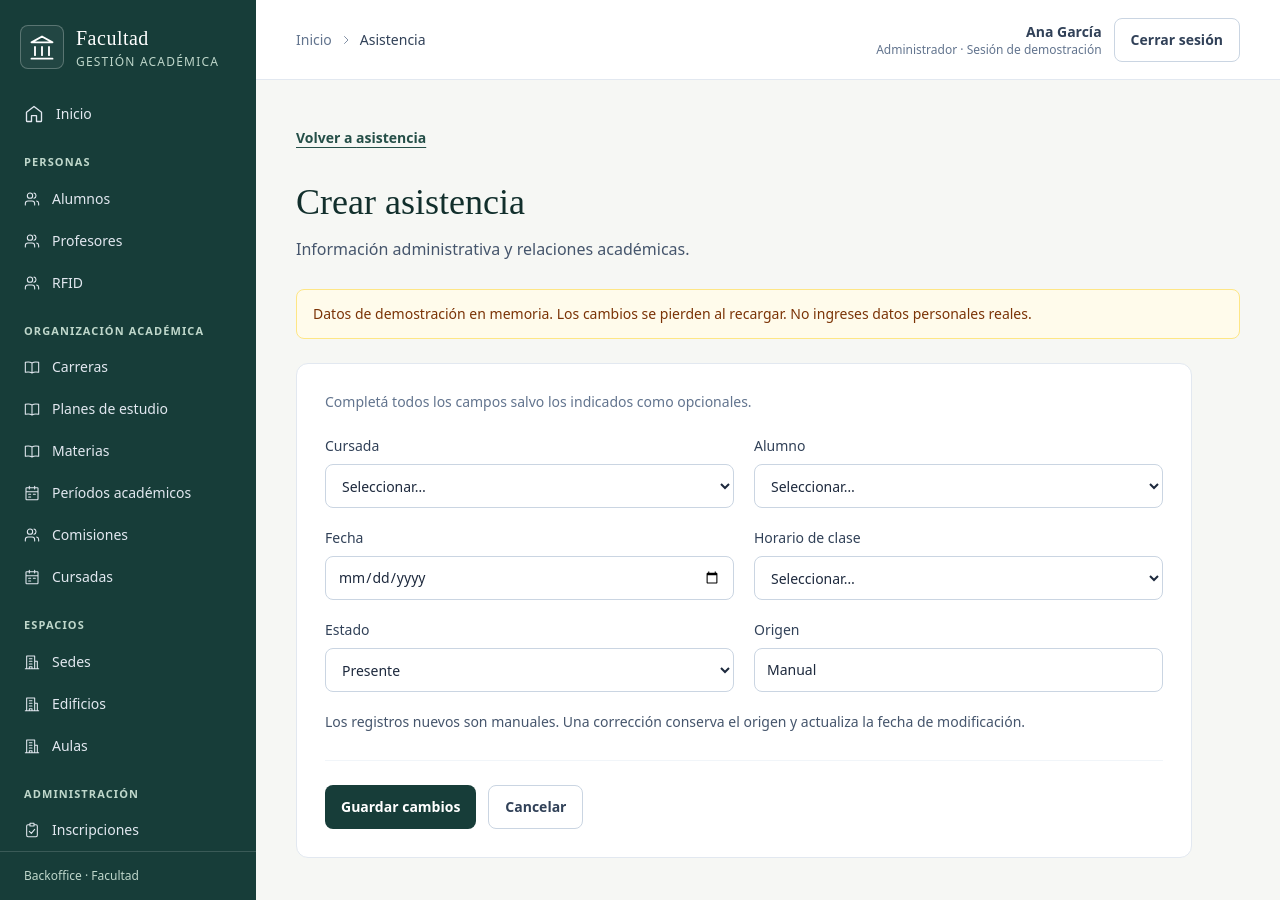
Flujos de gestión académica › registra asistencia manual con alumnos inscriptos y horario dependiente
Select "MAT1 · Matemática I · A · 2026 · 2.º cuatrimestre" in the dropdown labelled "Cursada" at (530, 486), box [325, 464, 734, 508]
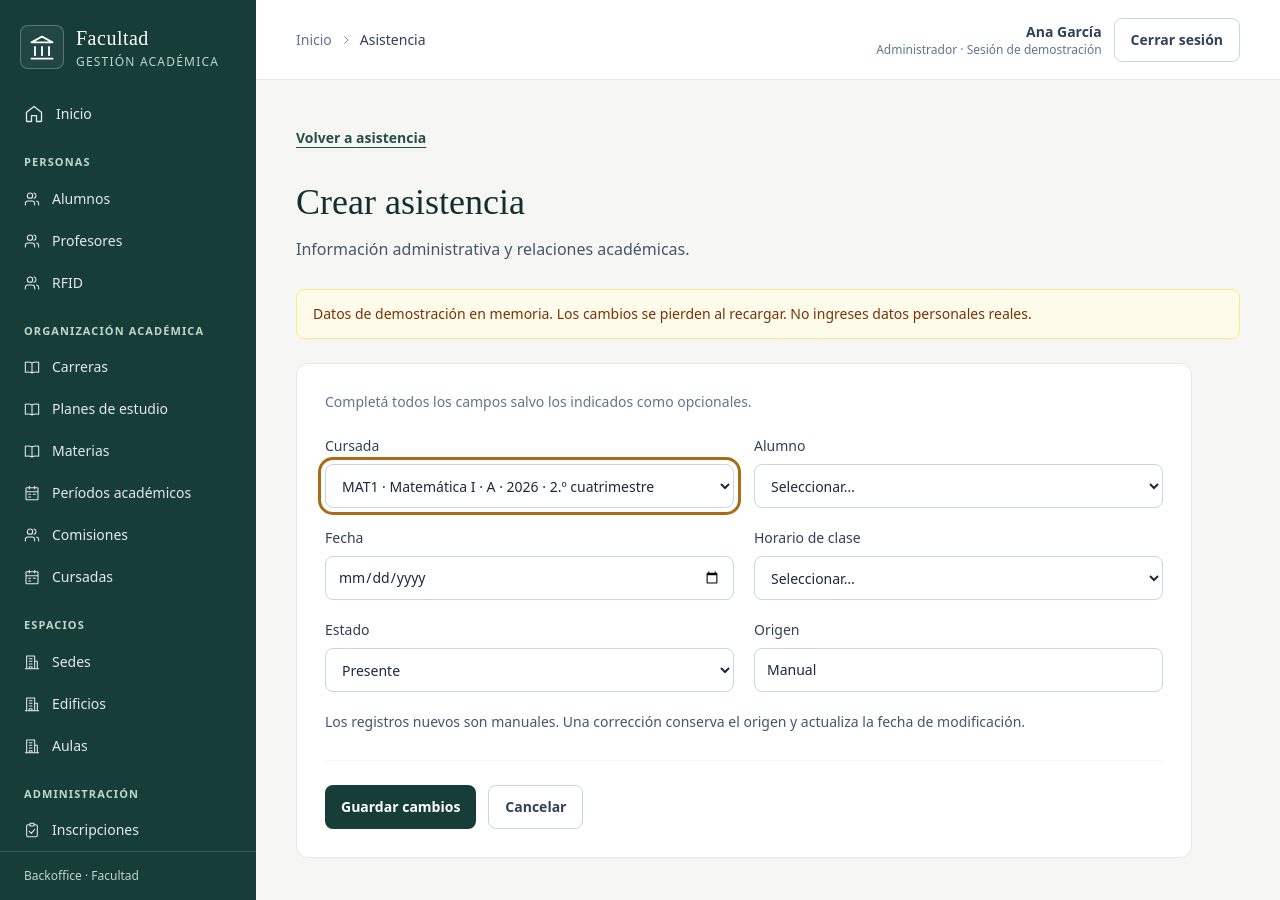
Select "Álvarez, Ana · A-2026-001" in the dropdown labelled "Alumno" at (958, 486), box [754, 464, 1163, 508]
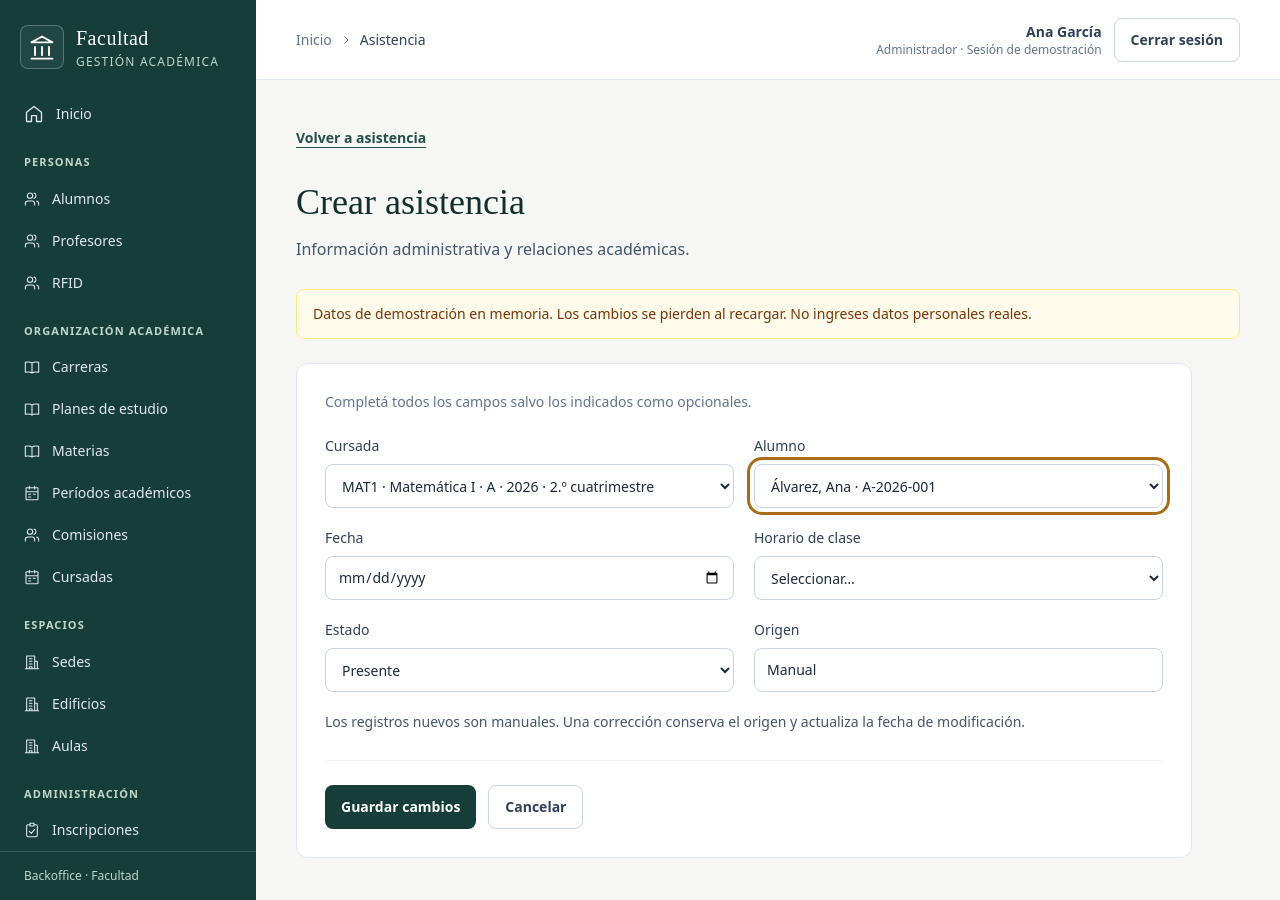
Select "Miércoles · 18:00–20:00 · Aula 301" in the dropdown labelled "Horario de clase" at (958, 578), box [754, 556, 1163, 600]
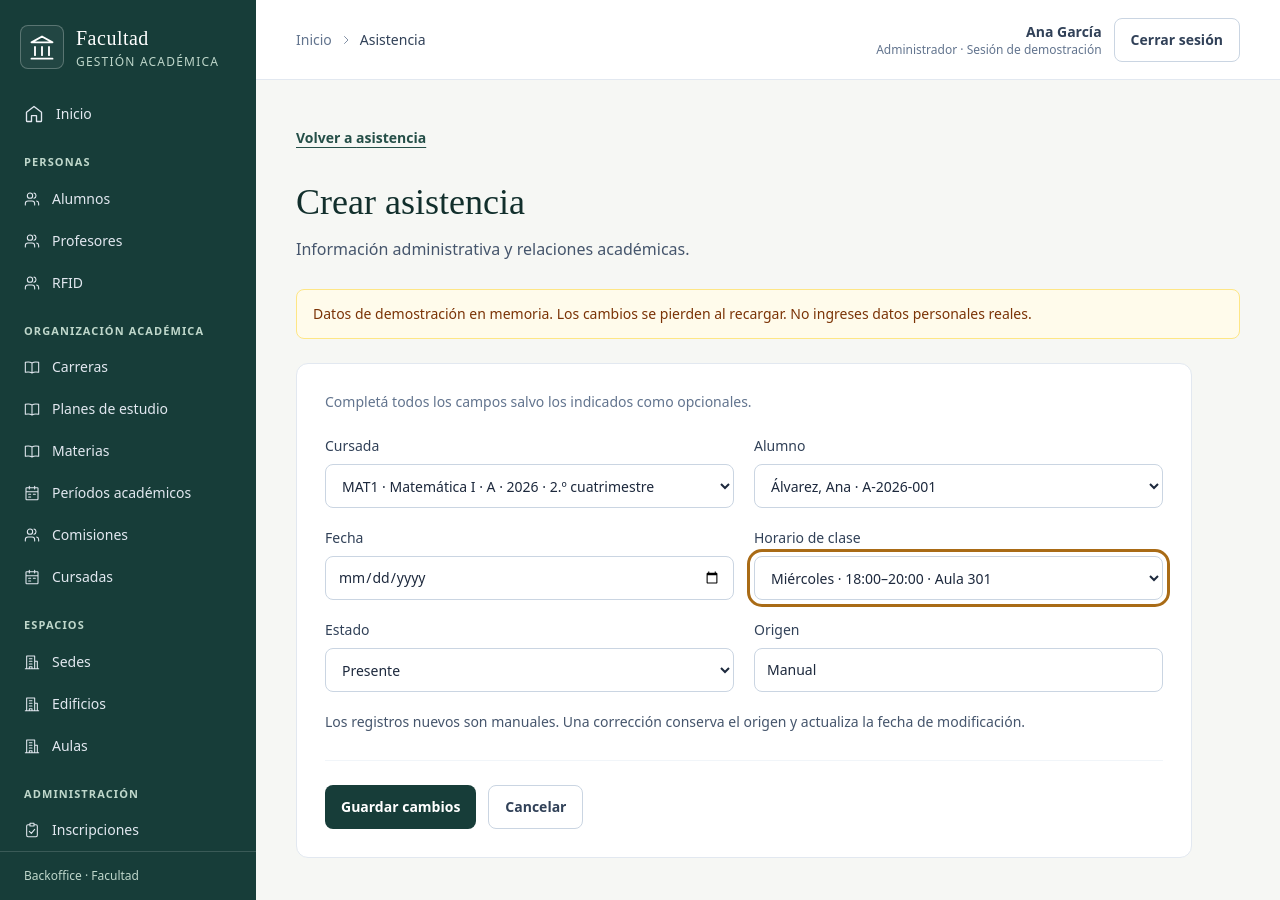
Type "2026-08-04" into the date field labelled "Fecha".
click(530, 578); type("2026-08-04")  # box [325, 556, 734, 600]
Click the button "Guardar cambios".
click(401, 807)  # box [325, 785, 476, 829]
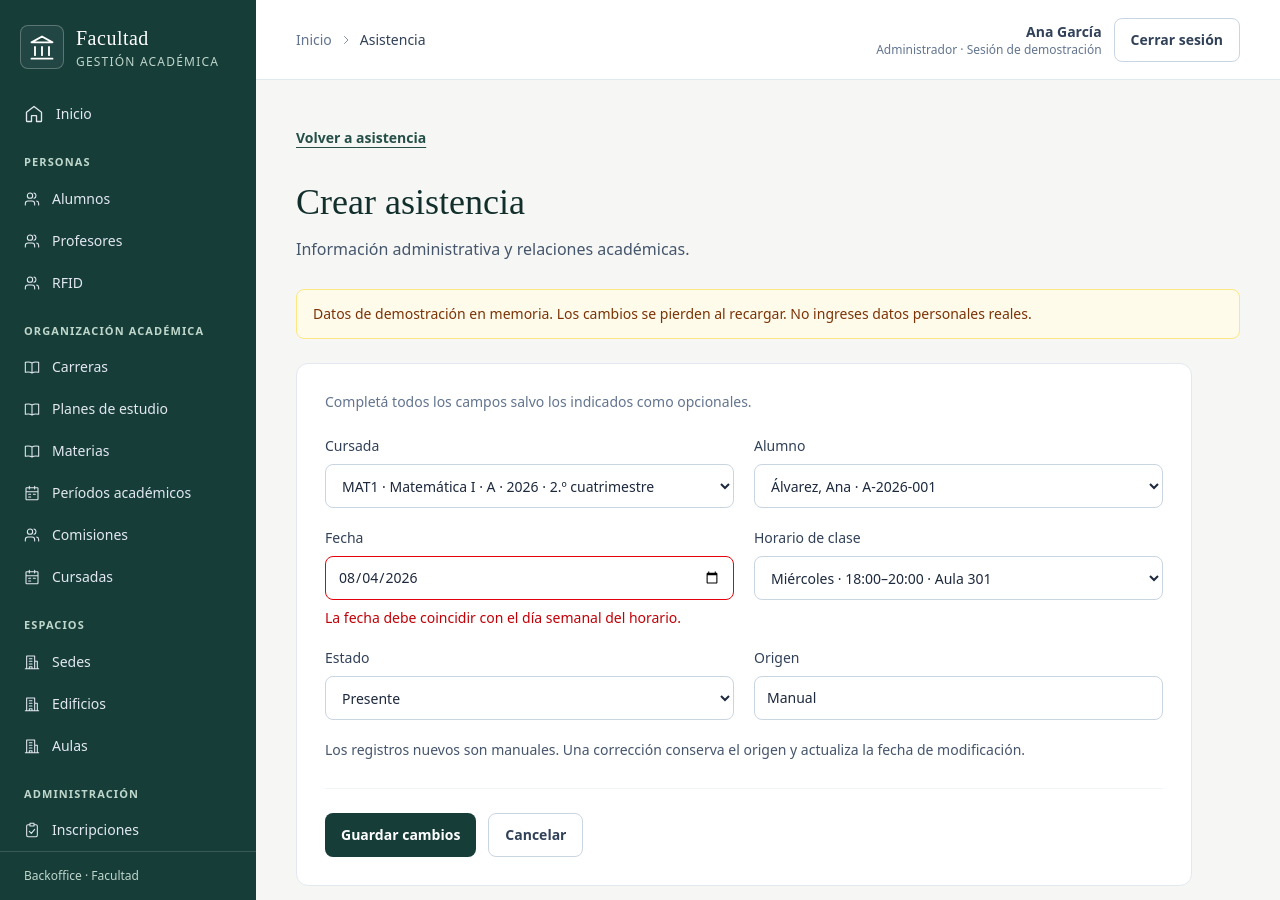
Check: the message shows "día semanal", box [325, 608, 681, 627]
Type "2026-08-05" into the date field labelled "Fecha".
click(530, 578); type("2026-08-05")  # box [325, 556, 734, 600]
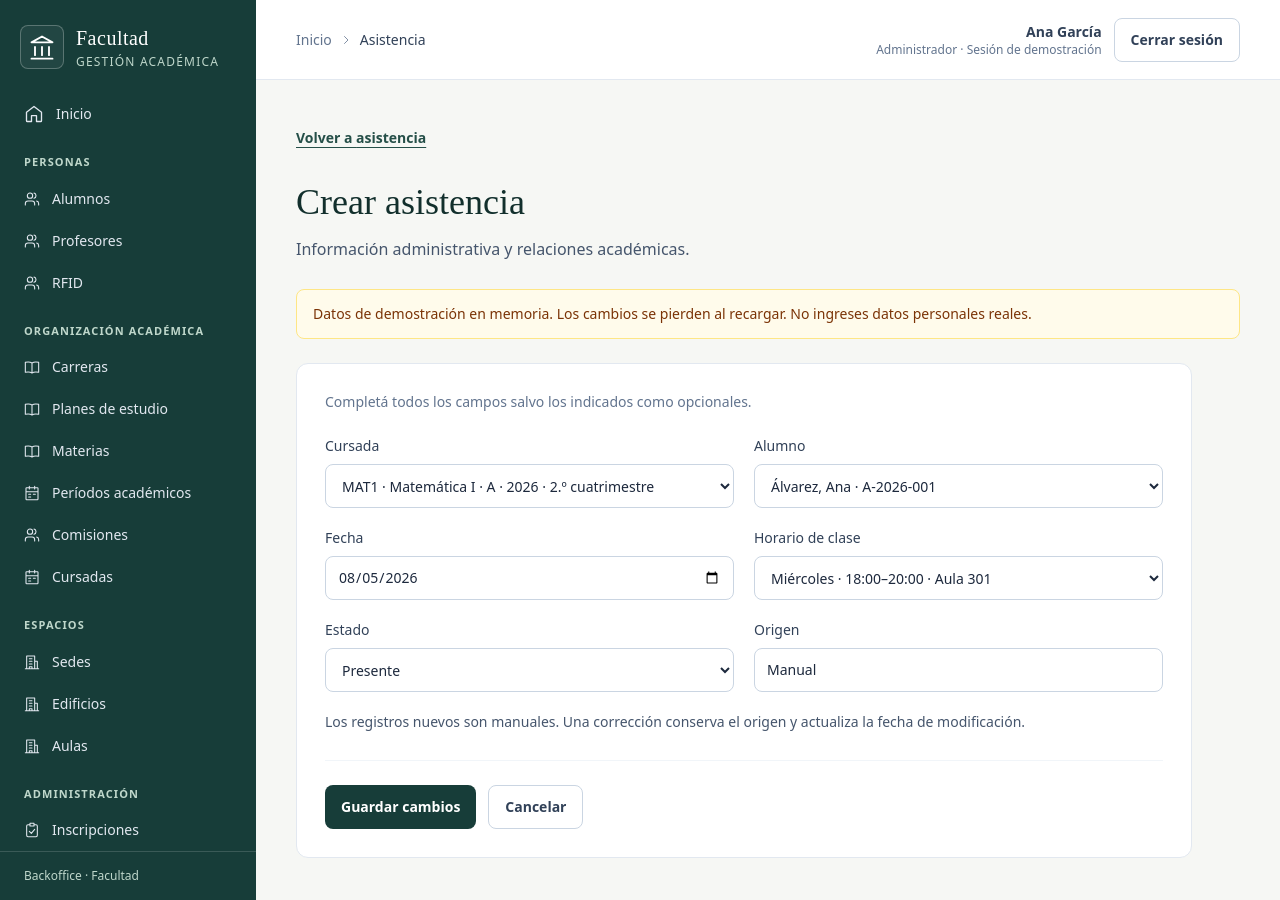
Select "Presente" in the dropdown labelled "Estado" at (530, 670), box [325, 648, 734, 692]
Click the button "Guardar cambios".
click(401, 807)  # box [325, 785, 476, 829]
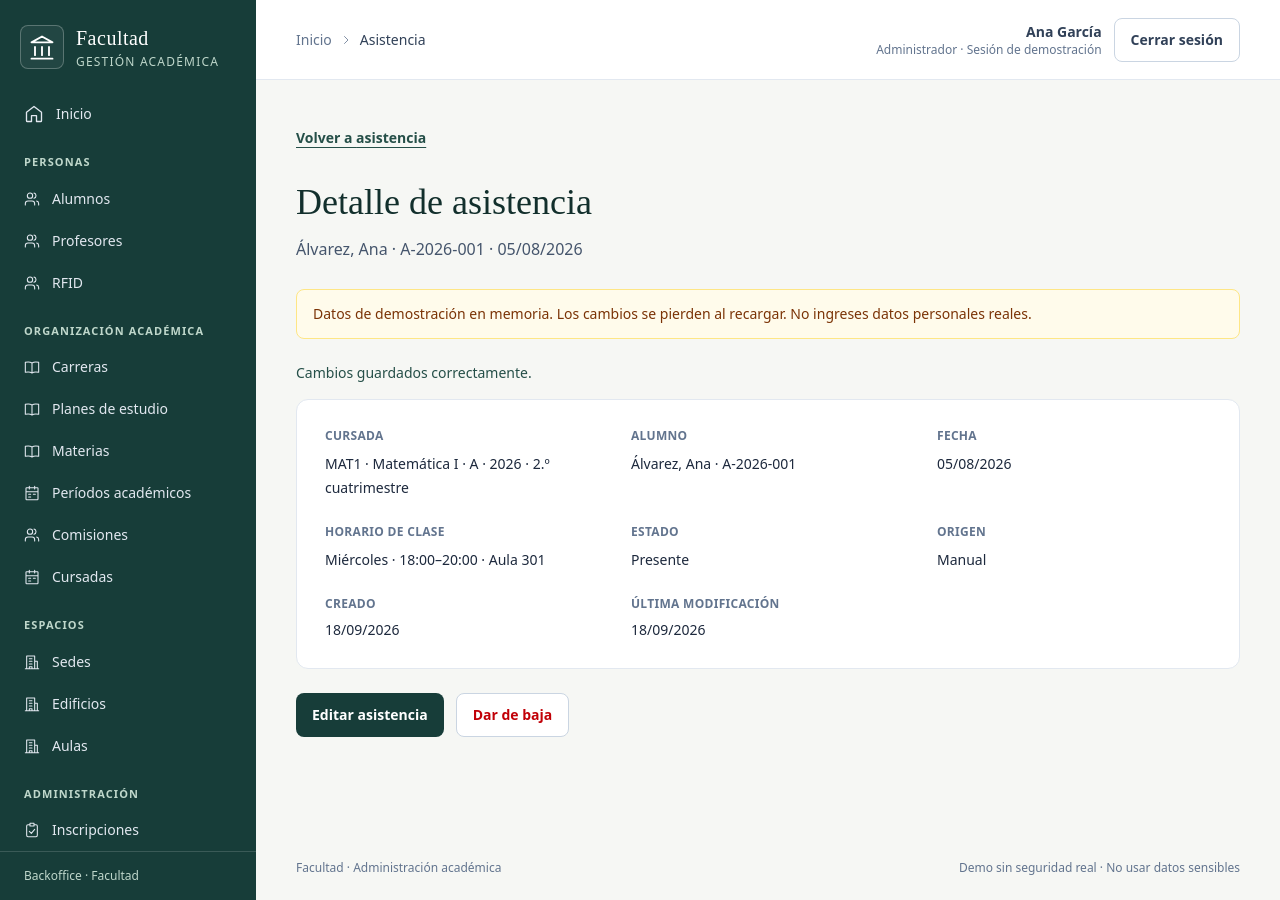
Check: the text "Manual" is shown, box [937, 550, 986, 569]
Check: the heading "Detalle de asistencia" is shown, box [296, 182, 592, 222]
Check: the text "05/08/2026" is shown, box [937, 454, 1012, 473]
